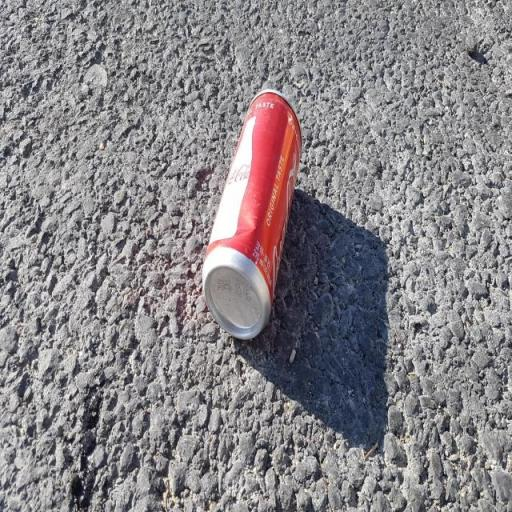metal: (180, 32, 318, 386)
